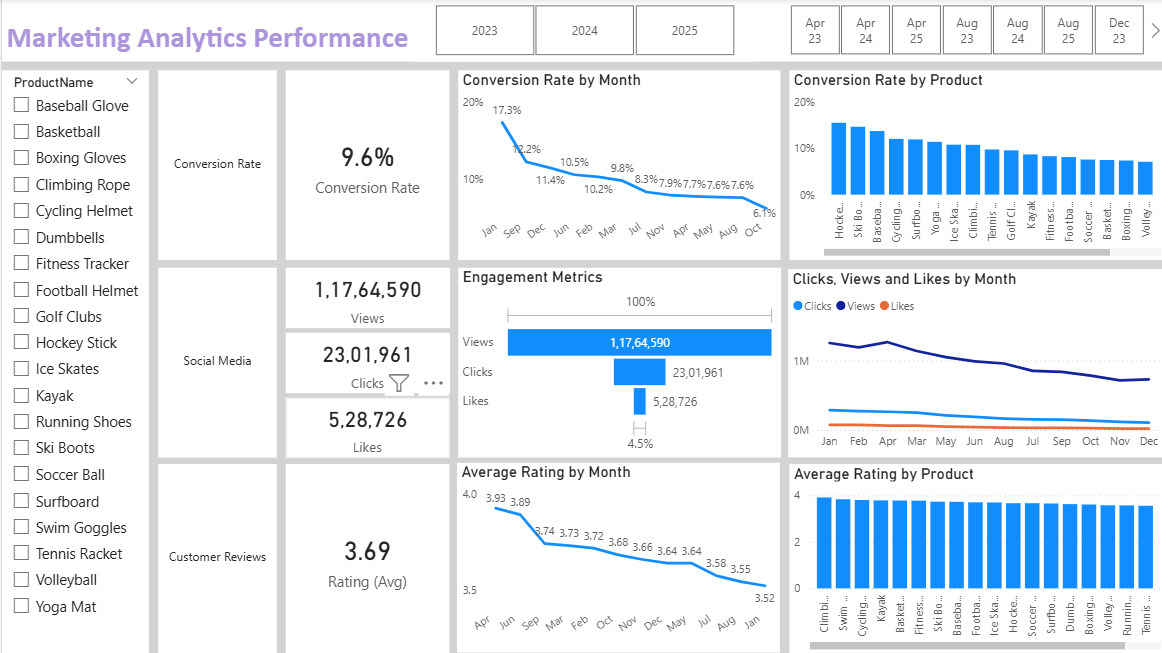

Layout of this report page (visuals, bound fields, positions):
{"tool":"powerbi","page":{"name":"Page 1","canvas":[1280,720],"ordinal":0},"visuals":[{"type":"textbox","box":[0,0,1280.3,68.6],"z":0},{"type":"slicer","fields":{"Values":["dim_products.ProductName"]},"box":[0,78.2,161.9,642.2],"z":1000},{"type":"textbox","box":[171.5,78.2,130.4,208.6],"z":2000},{"type":"textbox","box":[171.5,295,130.4,208.6],"z":3000},{"type":"textbox","box":[171.5,511.8,130.4,208.6],"z":4000},{"type":"card","fields":{"Values":["Calculations.Conversion Rate","select"]},"box":[312.2,78.4,180.1,209],"z":5000},{"type":"card","fields":{"Values":["select","Calculations.Clicks"]},"box":[312,367,180.7,66.3],"z":6000},{"type":"card","fields":{"Values":["select","Calculations.AVG (Rating)"]},"box":[312.2,511.6,180.1,209],"z":7000},{"type":"card","fields":{"Values":["select","Calculations.Views"]},"box":[312,295,180.7,66.3],"z":8000},{"type":"card","fields":{"Values":["select","Calculations.Likes"]},"box":[312.2,438.7,180.1,66],"z":9000},{"type":"lineChart","title":"Conversion Rate by Month","fields":{"Y":["Calculations.Conversion Rate"],"Category":["Calendar.MonthNameShort"]},"box":[501.9,78.4,354.8,209],"z":10000},{"type":"columnChart","title":"Conversion Rate by Product","fields":{"Y":["Calculations.Conversion Rate"],"Category":["dim_products.ProductName"]},"box":[866.4,78.4,413.9,209],"z":11000},{"type":"funnel","title":"Engagement Metrics","fields":{"Y":["Calculations.Views","Calculations.Clicks","Calculations.Likes"]},"box":[502.4,295,354.9,208.7],"z":12000},{"type":"lineChart","title":"Clicks, Views and Likes by Month","fields":{"Y":["Calculations.Clicks","Calculations.Views","Calculations.Likes"],"Category":["Calendar.MonthNameShort"]},"box":[865.6,296.4,414.7,207.4],"z":13000},{"type":"lineChart","title":"Average Rating by Month","fields":{"Category":["Calendar.MonthNameShort"],"Y":["Calculations.AVG (Rating)"]},"box":[501,510.7,354.9,208.7],"z":14000},{"type":"slicer","fields":{"Values":["Calendar.Year"]},"box":[421.7,0,378.5,68.2],"z":15000},{"type":"slicer","fields":{"Values":["Calendar.YearMonthShort"]},"box":[841.9,0,438.4,68.2],"z":16000},{"type":"columnChart","title":"Average Rating by Product","fields":{"Y":["Calculations.AVG (Rating)"],"Category":["dim_products.ProductName"]},"box":[866,511,414,209],"z":17000}]}

Visuals, with their boxes in screenshot pixels (x1, y1, x2, y2), scaled from the page's 1280x720 canvas onto the 1162x653 screenshot:
textbox: 0/0/1161/62
slicer - dim_products.ProductName: 0/71/147/652
textbox: 156/71/274/260
textbox: 156/268/274/457
textbox: 156/464/274/652
card - Calculations.Conversion Rate x select: 283/71/447/261
card - select x Calculations.Clicks: 283/333/447/393
card - select x Calculations.AVG (Rating): 283/464/447/652
card - select x Calculations.Views: 283/268/447/328
card - select x Calculations.Likes: 283/398/447/458
"Conversion Rate by Month" lineChart: 456/71/778/261
"Conversion Rate by Product" columnChart: 787/71/1161/261
"Engagement Metrics" funnel: 456/268/778/457
"Clicks, Views and Likes by Month" lineChart: 786/269/1161/457
"Average Rating by Month" lineChart: 455/463/777/652
slicer - Calendar.Year: 383/0/726/62
slicer - Calendar.YearMonthShort: 764/0/1161/62
"Average Rating by Product" columnChart: 786/463/1161/652
